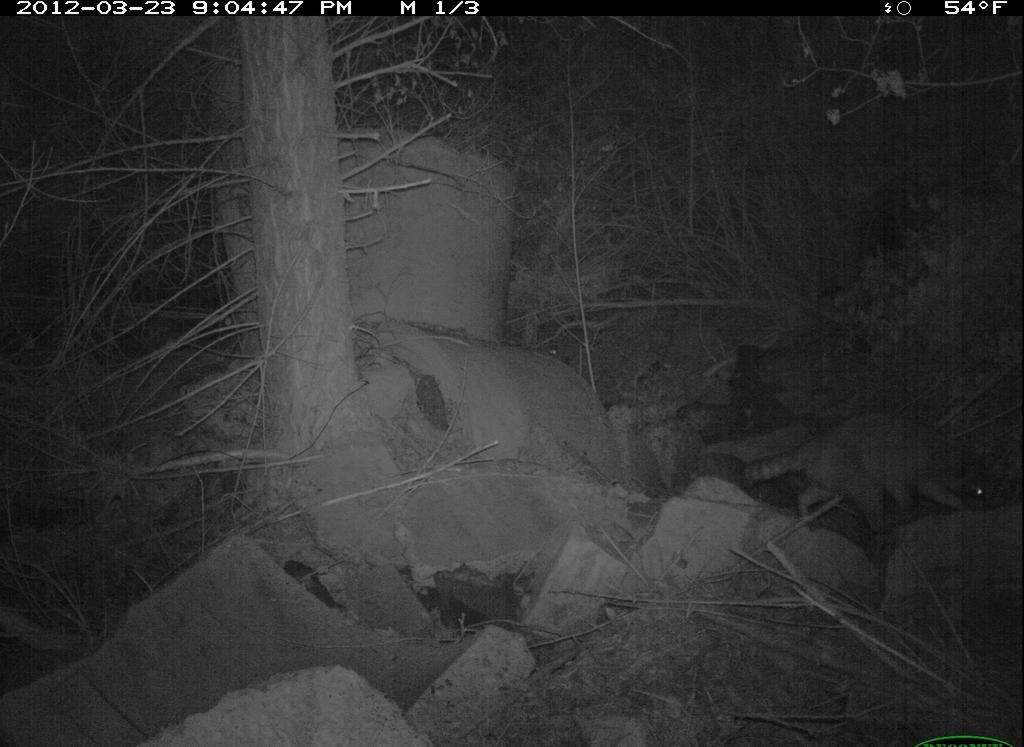raccoon: (740, 406, 1000, 543)
